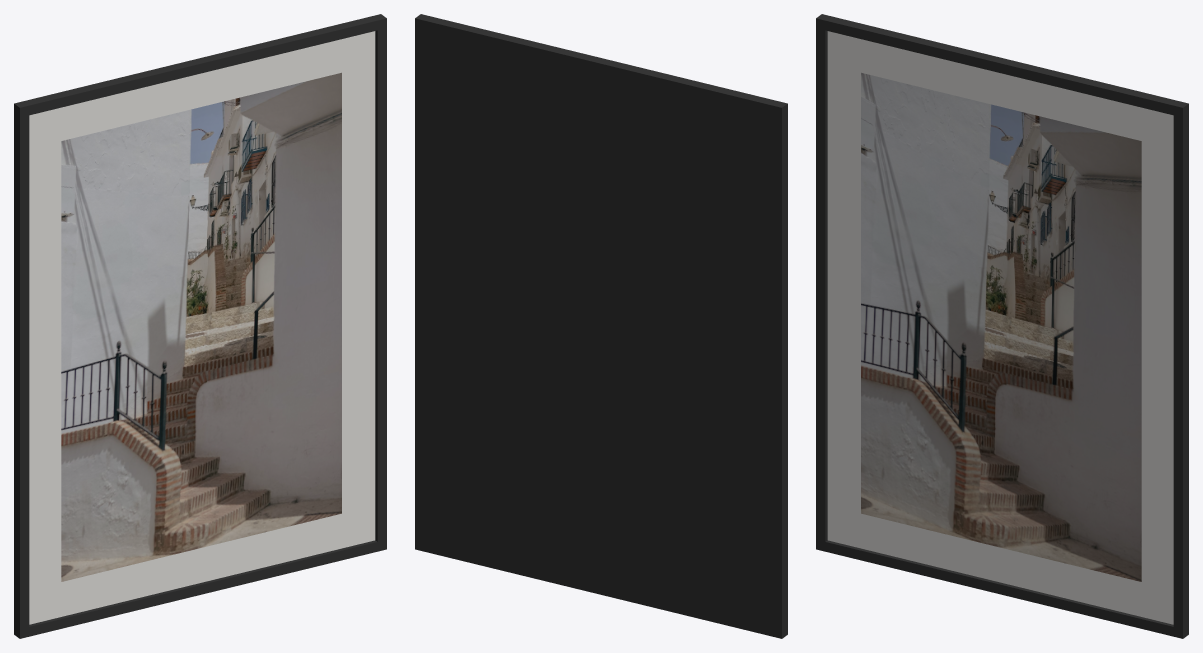
File: trapporna-90.gltf
The picture shows the model from 3 angles, left to right: view 1: azimuth 30°, elevation 25°; view 2: azimuth 150°, elevation 25°; view 3: azimuth 330°, elevation 25°; orthographic projection.
Visible parts, largest first — view 1: tavla; view 2: tavla; view 3: tavla.
Part boxes in pixels (bbox=[...]): tavla: bbox=[14, 14, 386, 638]; tavla: bbox=[415, 14, 787, 638]; tavla: bbox=[816, 14, 1188, 638].
Size of the model in its own units: 0.784 by 1.08 by 0.022.
Materials: 3 (1 with a texture image).
